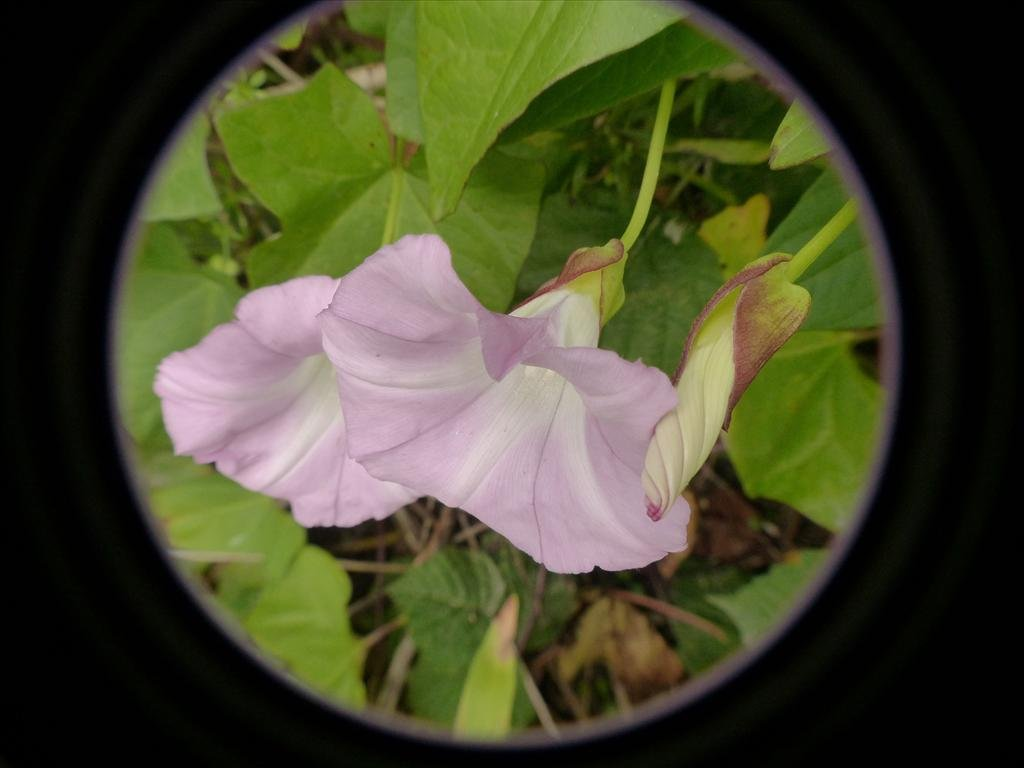haagwinde: (146, 218, 728, 589)
